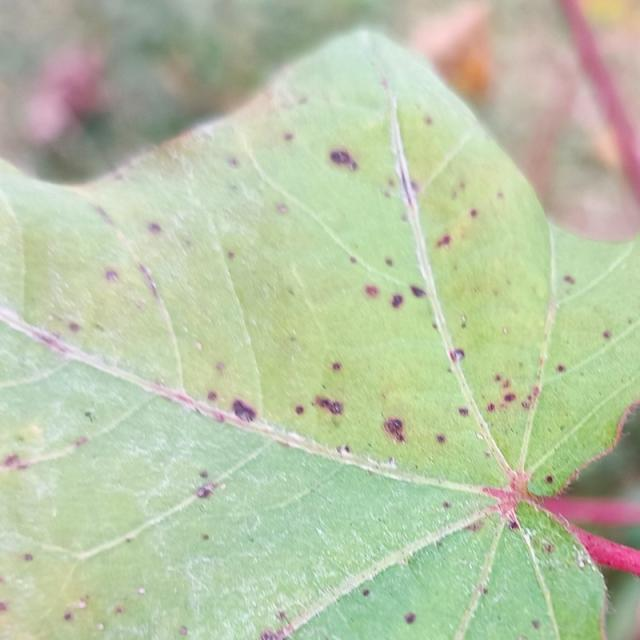Bacterial_Blight: (432, 196, 488, 258), (394, 157, 418, 213), (225, 393, 264, 426), (136, 261, 161, 303), (28, 326, 64, 350), (382, 416, 407, 443), (329, 148, 358, 171), (200, 404, 230, 425), (314, 395, 343, 415), (63, 599, 88, 621), (94, 206, 116, 226), (261, 627, 286, 639), (3, 453, 21, 469), (448, 347, 465, 363), (196, 484, 213, 499), (466, 519, 485, 532), (410, 285, 426, 298), (403, 611, 417, 625), (330, 151, 344, 165), (105, 269, 120, 282), (364, 285, 379, 298), (391, 295, 404, 308), (521, 397, 534, 410), (148, 222, 162, 234), (74, 436, 89, 447), (529, 385, 540, 399), (507, 518, 519, 530), (391, 418, 403, 430), (503, 392, 516, 403), (439, 235, 451, 246), (276, 203, 288, 214), (227, 157, 239, 168), (84, 411, 95, 422), (563, 275, 575, 285), (68, 322, 80, 332), (261, 634, 280, 640), (278, 611, 289, 621), (114, 605, 125, 615), (436, 434, 446, 444), (602, 330, 612, 340), (207, 391, 217, 401), (64, 612, 74, 622), (544, 543, 554, 553), (458, 407, 469, 416), (22, 553, 33, 562), (283, 132, 294, 141), (295, 405, 304, 415), (332, 362, 342, 371), (216, 361, 225, 371), (179, 626, 188, 636), (460, 316, 467, 328), (556, 364, 565, 373), (545, 475, 554, 484), (486, 403, 495, 412), (199, 470, 208, 479), (469, 209, 478, 218), (385, 258, 394, 267), (424, 116, 433, 125), (532, 620, 540, 630), (494, 374, 503, 382), (442, 501, 451, 509), (227, 251, 235, 260), (502, 379, 510, 388), (343, 445, 351, 453), (362, 589, 370, 597), (349, 256, 357, 264), (481, 587, 489, 595), (388, 456, 395, 465), (484, 450, 491, 458), (497, 191, 504, 199), (202, 534, 209, 541), (125, 537, 132, 544)
Cotton: (0, 30, 639, 639)
